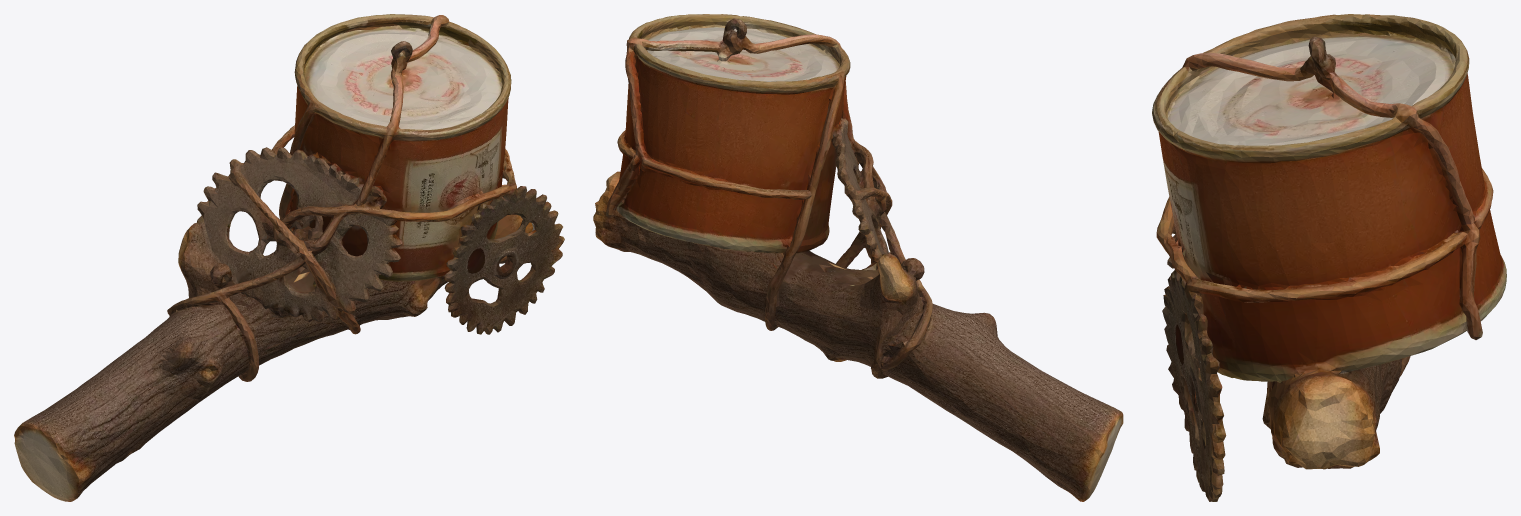
Rendered from tail (248).glb.
The picture shows the model from 3 angles, left to right: view 1: azimuth 30°, elevation 25°; view 2: azimuth 150°, elevation 25°; view 3: azimuth 270°, elevation 25°; orthographic projection. The views are drawn at different scales.
Visible parts, largest first — view 1: Hy21_Mesh.obj; view 2: Hy21_Mesh.obj; view 3: Hy21_Mesh.obj.
Boxes of the visible parts, x1=… form: Hy21_Mesh.obj: x1=14, y1=14, x2=564, y2=501; Hy21_Mesh.obj: x1=593, y1=14, x2=1123, y2=501; Hy21_Mesh.obj: x1=1152, y1=14, x2=1506, y2=501.
Bounding box in the file's own units: 1.95 × 1.4 × 0.8029.
1 material, 1 textured.
